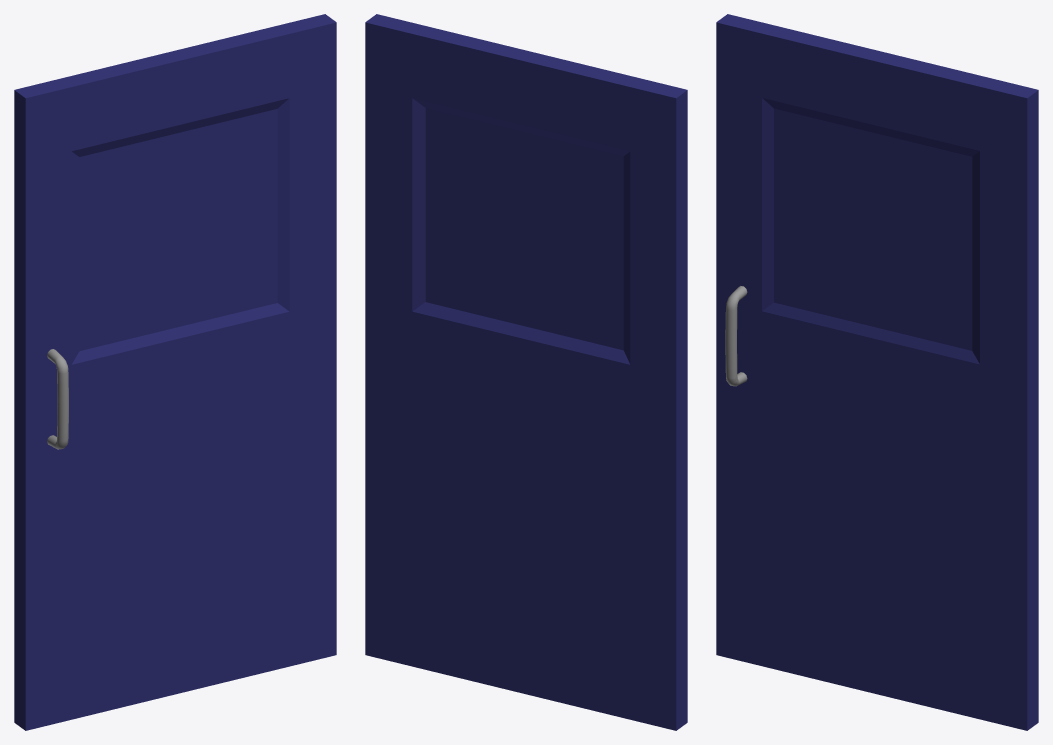
The model's file is door_steel.fbx.
3 views of the same model, side by side, from view 1: azimuth 30°, elevation 25°; view 2: azimuth 150°, elevation 25°; view 3: azimuth 330°, elevation 25° (orthographic).
Parts seen in each view (by area): view 1: pCylinder5; view 2: pCylinder5; view 3: pCylinder5.
Part boxes in pixels (x1,y1,x2,y2): pCylinder5: [14, 14, 336, 730]; pCylinder5: [365, 14, 687, 730]; pCylinder5: [716, 14, 1038, 730].
Bounding box in the file's own units: 4.16 × 8.08 × 0.591.
